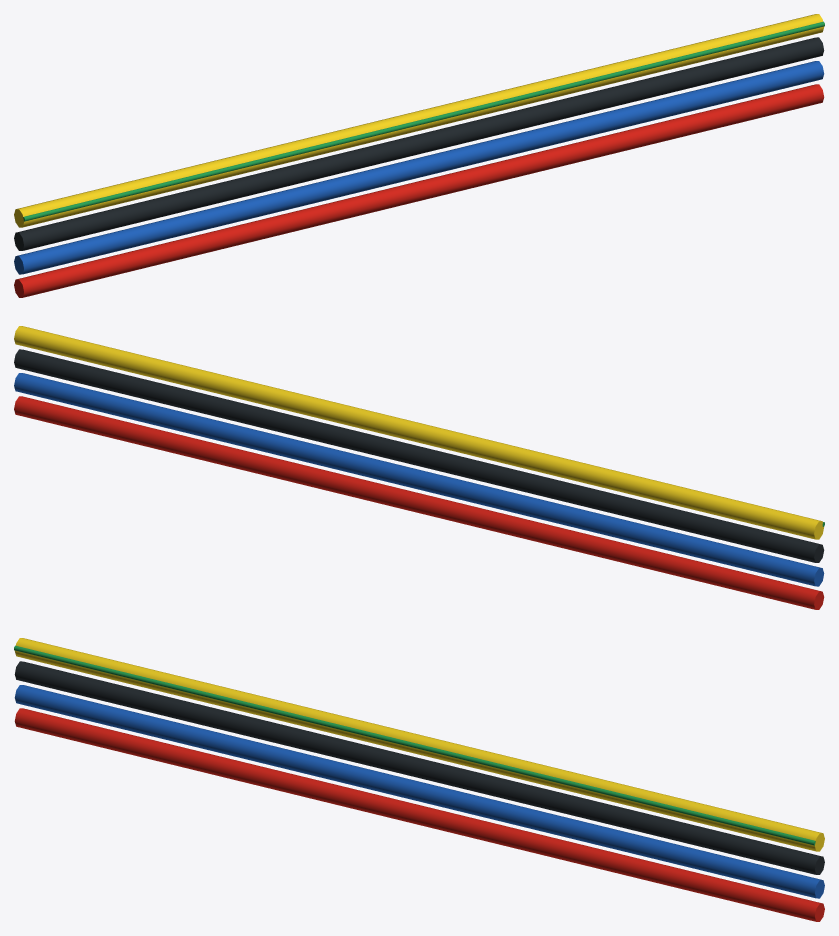
File: CableStraight.fbx
3 renders of one model, top to bottom at view 1: azimuth 30°, elevation 25°; view 2: azimuth 150°, elevation 25°; view 3: azimuth 330°, elevation 25°, orthographic.
Visible parts, largest first — view 1: MR_CableStraight_Body; view 2: MR_CableStraight_Body; view 3: MR_CableStraight_Body.
Boxes of the visible parts, left/top/right/bottom form: MR_CableStraight_Body: left=14, top=14, right=824, bottom=297; MR_CableStraight_Body: left=14, top=326, right=824, bottom=609; MR_CableStraight_Body: left=14, top=638, right=824, bottom=921.
Bounding box in the file's own units: 1 × 0.106 × 0.0236.
